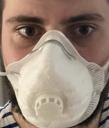with_mask: (2, 2, 109, 128)
